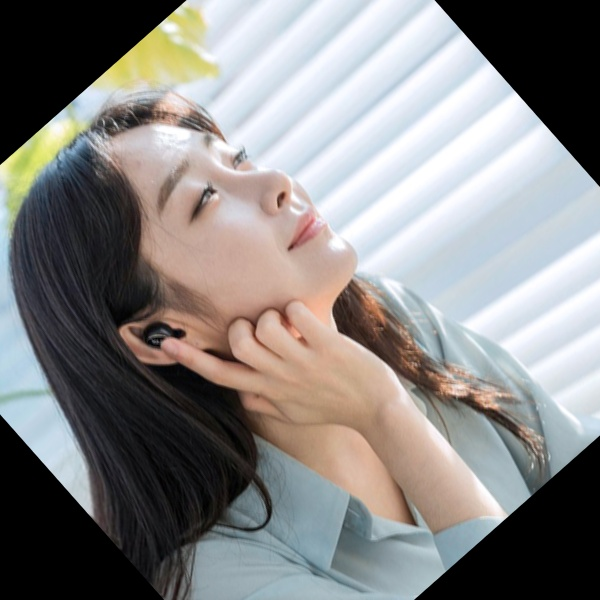earphone: (108, 283, 217, 393)
